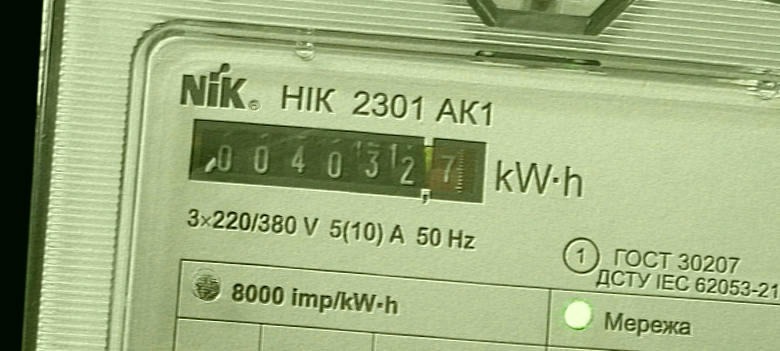0: (251, 143, 273, 177), (215, 141, 236, 175), (325, 148, 346, 182)
2: (399, 153, 419, 188)
3: (363, 148, 383, 181)
4: (288, 142, 310, 180)
7: (440, 153, 459, 187)
screen: (179, 111, 497, 217)
